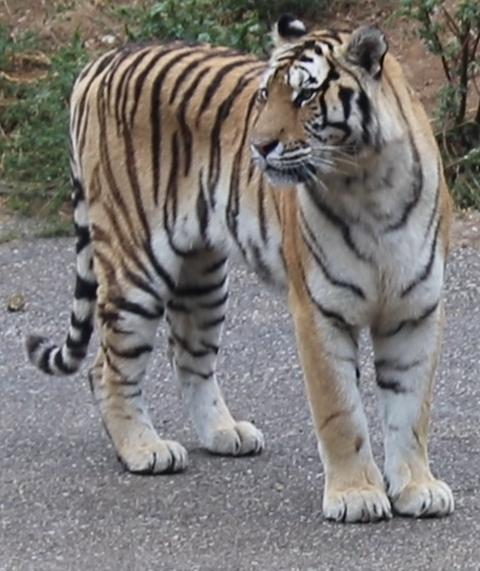tiger: (26, 15, 451, 521)
